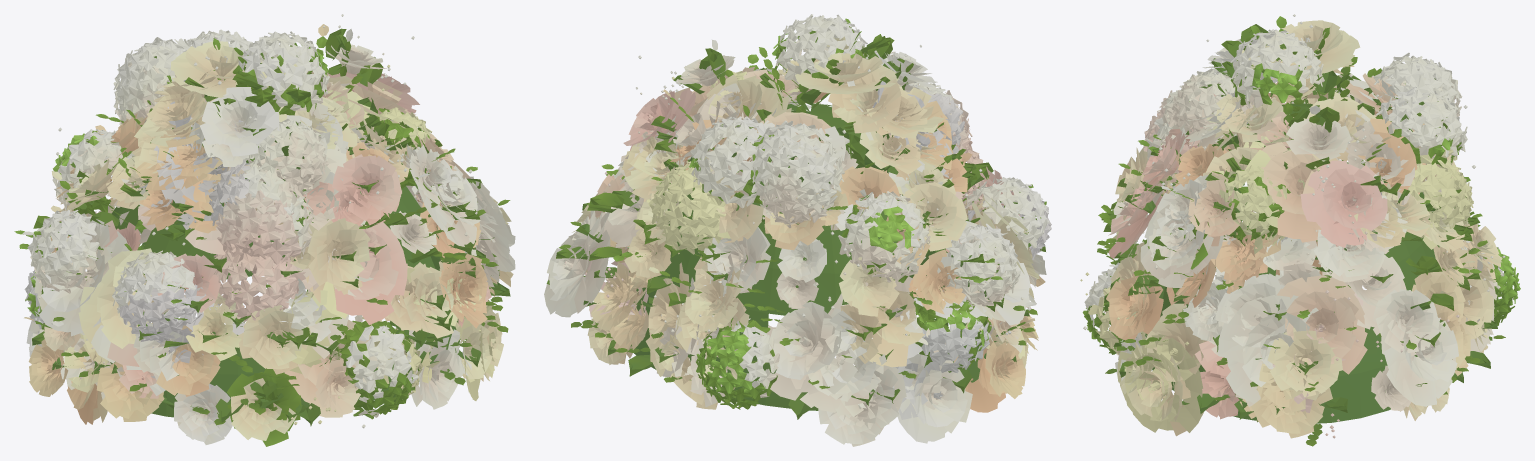
File: mound_c_bright_v7.glb
3 renders of one model, left to right at view 1: azimuth 30°, elevation 25°; view 2: azimuth 150°, elevation 25°; view 3: azimuth 270°, elevation 25°, orthographic. The views are drawn at different scales.
Parts seen in each view (by area): view 1: petals; view 2: petals; view 3: petals.
Boxes of the visible parts, x1,y1,x2,y2 form: petals: (14,14,515,446); petals: (544,14,1051,446); petals: (1080,14,1520,446).
Size of the model in its own units: 0.0154 by 0.0105 by 0.0125.
